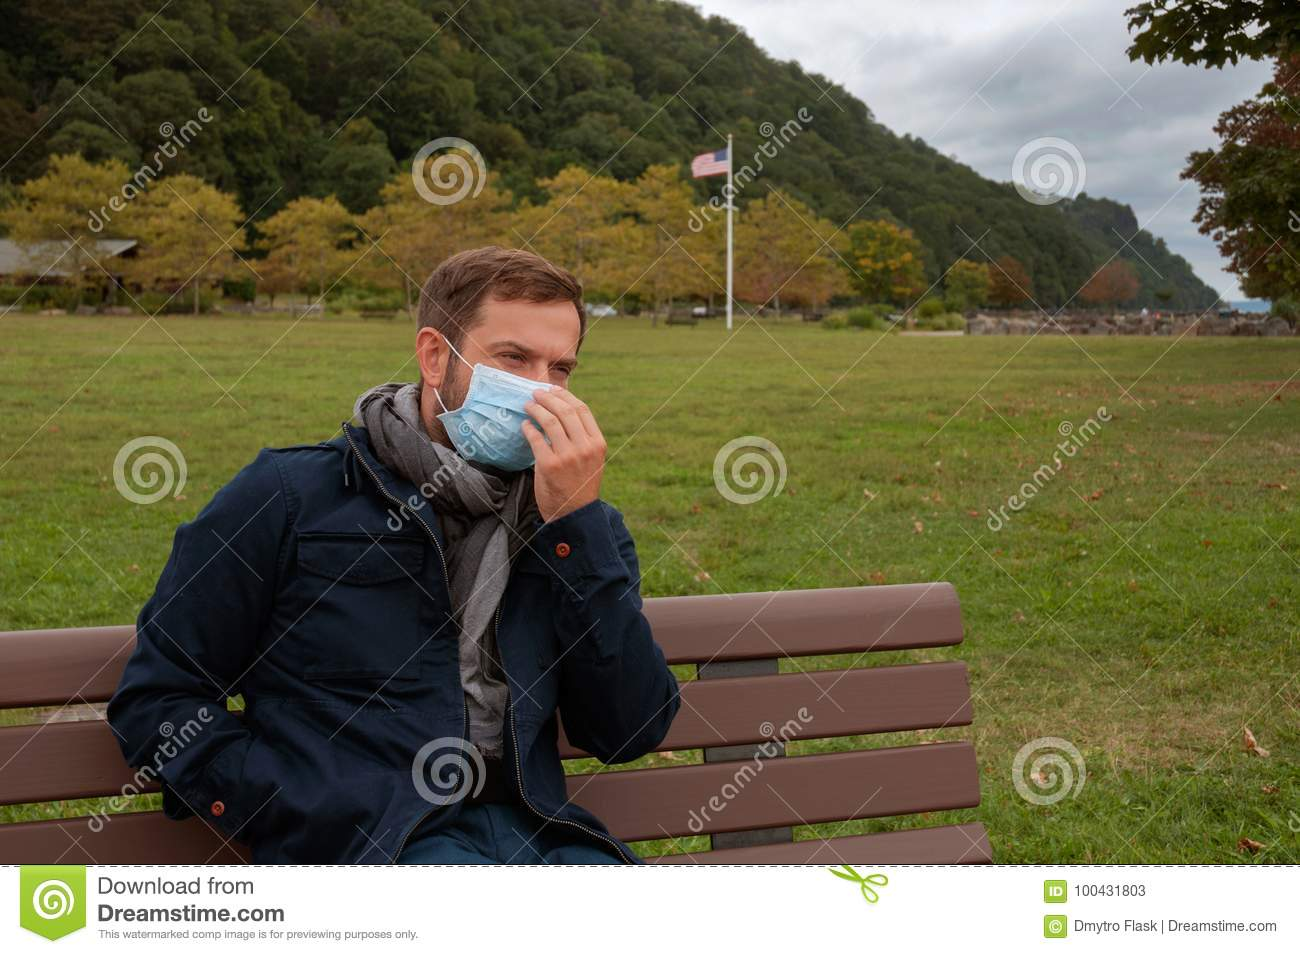mask: (439, 369, 568, 476)
